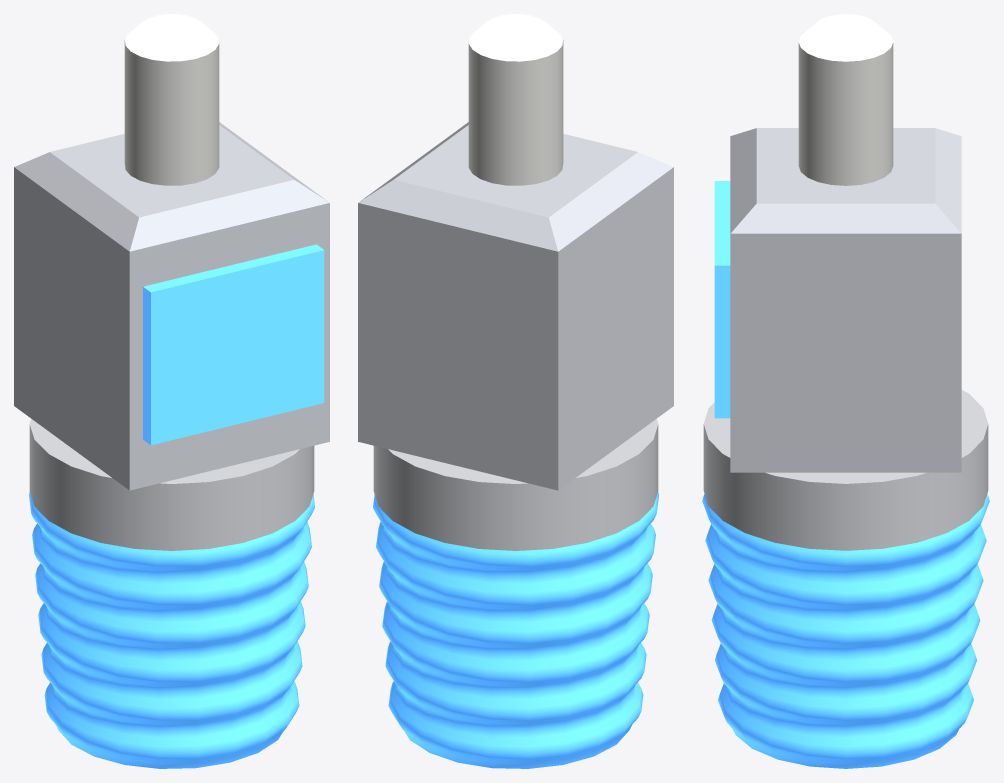
Rendered from fiber_sc.glb.
The picture shows the model from 3 angles, left to right: view 1: azimuth 30°, elevation 25°; view 2: azimuth 150°, elevation 25°; view 3: azimuth 270°, elevation 25°; orthographic projection.
Parts seen in each view (by area): view 1: boot, housing, ring, ferrule, ferrule_tip; view 2: housing, boot, ring, ferrule, ferrule_tip; view 3: housing, boot, ring, ferrule, ferrule_tip.
Part boxes in pixels (x1,y1,x2,y2): boot: (29, 244, 324, 768); housing: (14, 122, 329, 490); ring: (29, 419, 314, 550); ferrule: (124, 40, 219, 185); ferrule_tip: (125, 14, 218, 61); housing: (358, 122, 673, 490); boot: (373, 492, 658, 768); ring: (373, 419, 658, 550); ferrule: (468, 40, 563, 185); ferrule_tip: (469, 14, 562, 61); housing: (730, 128, 961, 472); boot: (702, 181, 989, 768); ring: (703, 390, 988, 550); ferrule: (798, 42, 893, 185); ferrule_tip: (798, 14, 893, 61).
Size of the model in its own units: 2.73 by 7.3 by 2.73.
